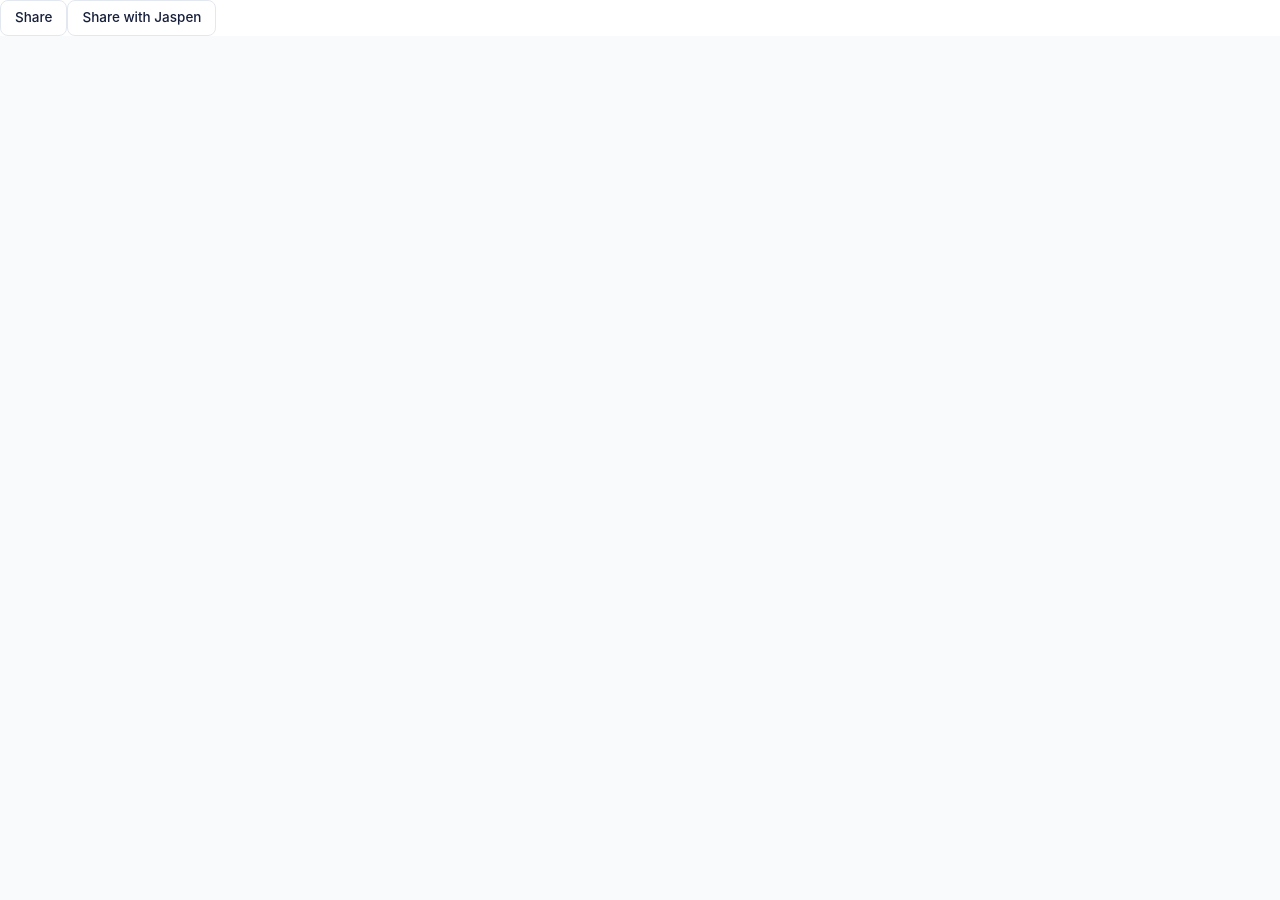
Scenario: ShareDialog › free accounts see the plan requirement instead of options
The width and height of the screenshot is (1280, 900).
What coordinates should you click on to do the following:
click the button "Share"
I would click on:
 (34, 18)
Its box is [0, 0, 67, 36].
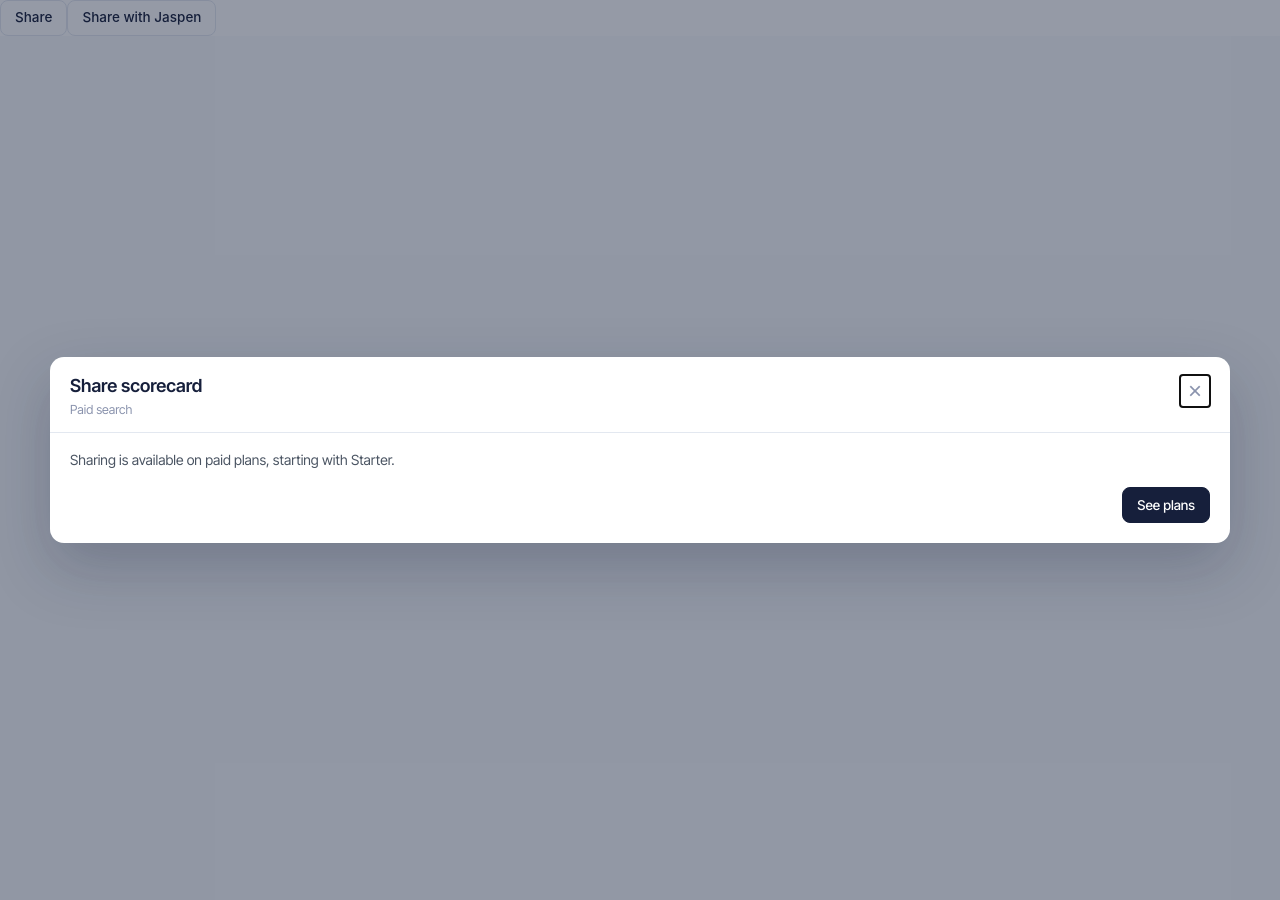
Expected: the text "Sharing is available on paid plans, starting with Starter." is shown, [70, 451, 395, 468]
